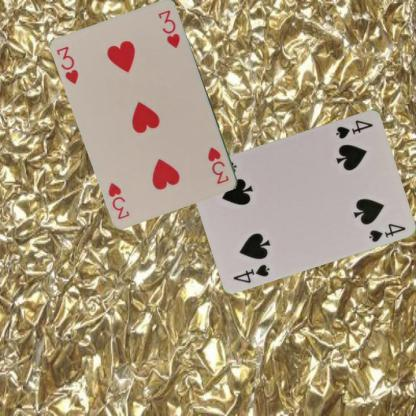3h: (54, 44, 80, 86), (205, 144, 231, 185)
4s: (230, 261, 272, 284), (334, 117, 374, 140)
